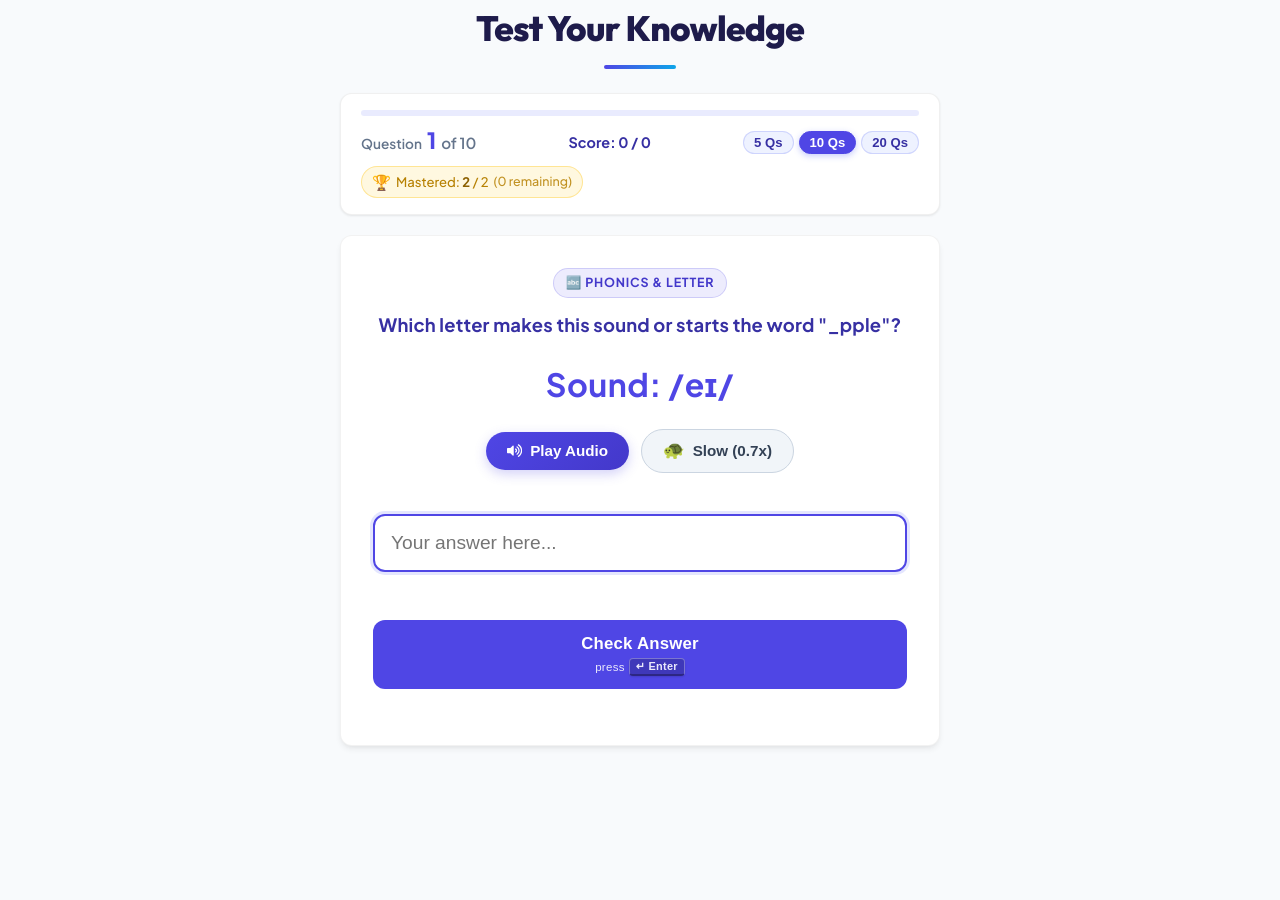
Scenario: Quiz Component - Session Goals & Mastery Filtering › renders the fluid bottom feedback drawer on answer check
Type "wrong" into the field with placeholder "Your answer here...". click: (640, 543)
box: [373, 514, 907, 572]
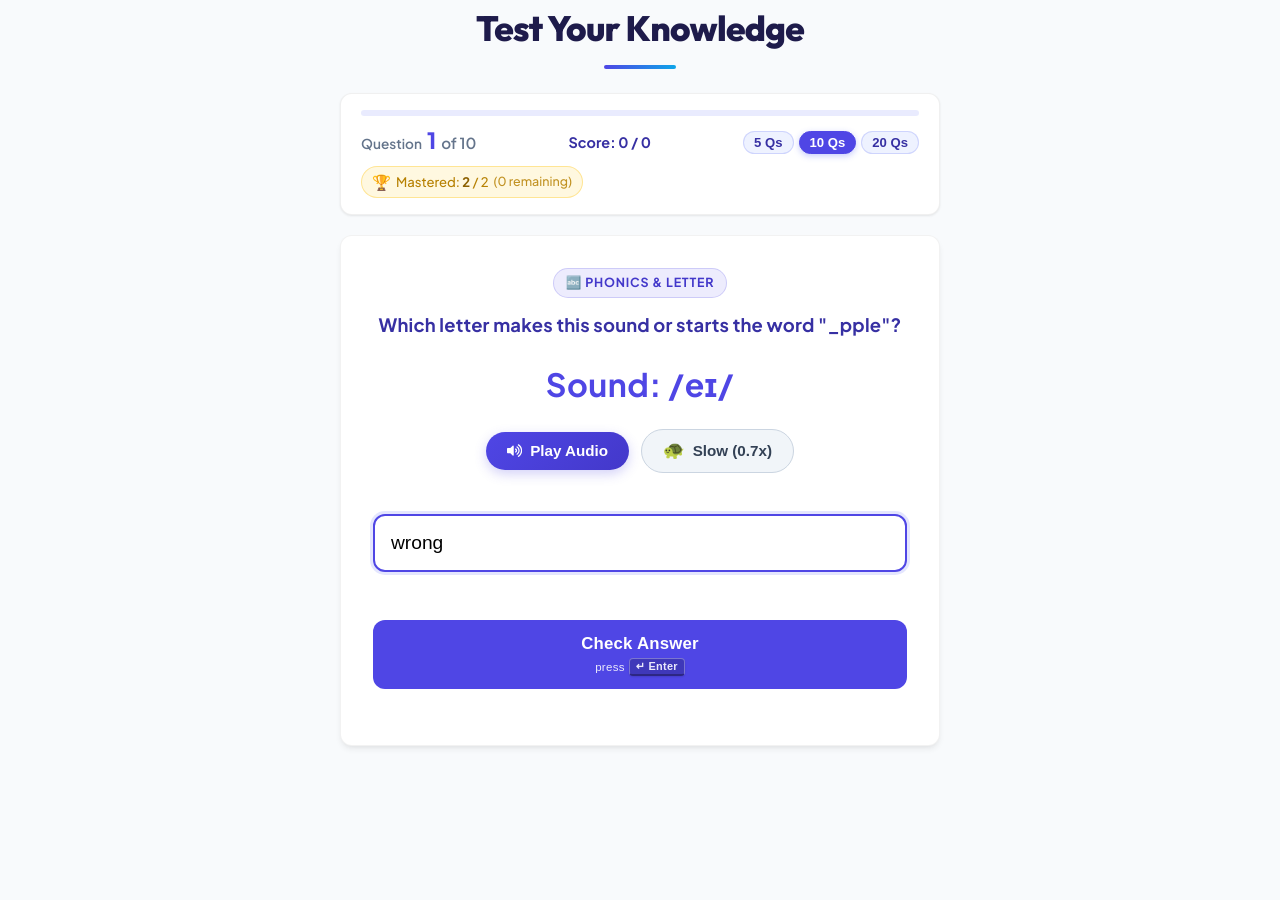
Click the button "Check Answer press ↵ Enter". click: (640, 655)
box: [373, 620, 907, 690]
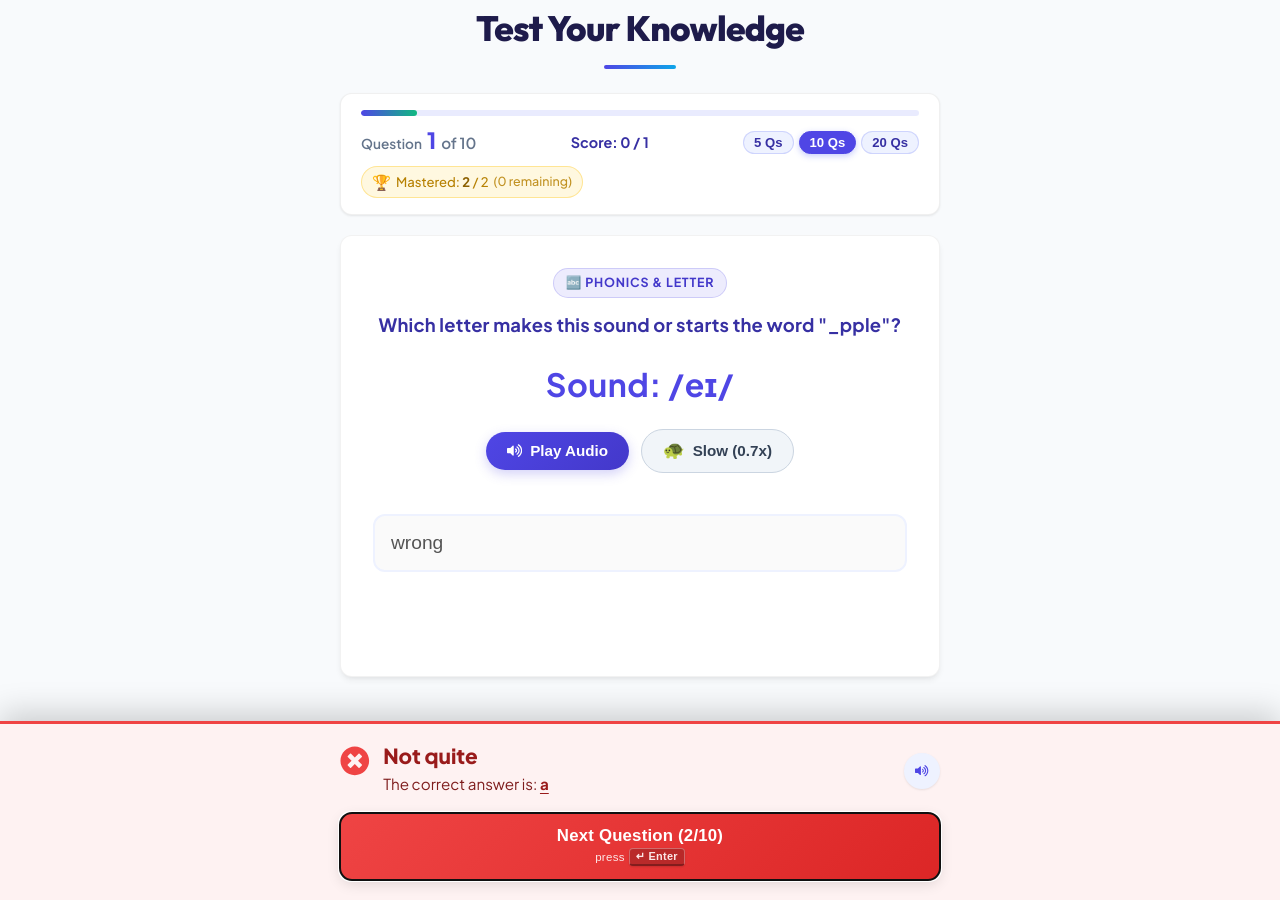
Now the element that starts with "Not quite" is shown, box [0, 721, 1279, 899]
Now the text "Not quite" is shown, box [383, 742, 478, 769]
Now the text "The correct answer is:" is shown, box [383, 774, 540, 794]
